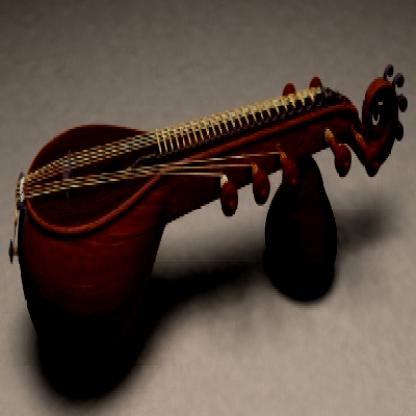Veena: (17, 84, 353, 269)
